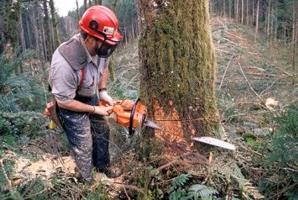person: (45, 5, 123, 184)
